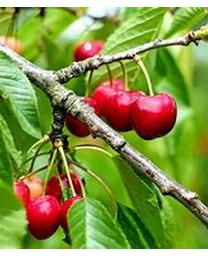cherry: (129, 93, 177, 140), (91, 79, 133, 118), (25, 195, 61, 240), (105, 92, 144, 130), (47, 171, 85, 205), (58, 198, 91, 236), (74, 41, 106, 59)
